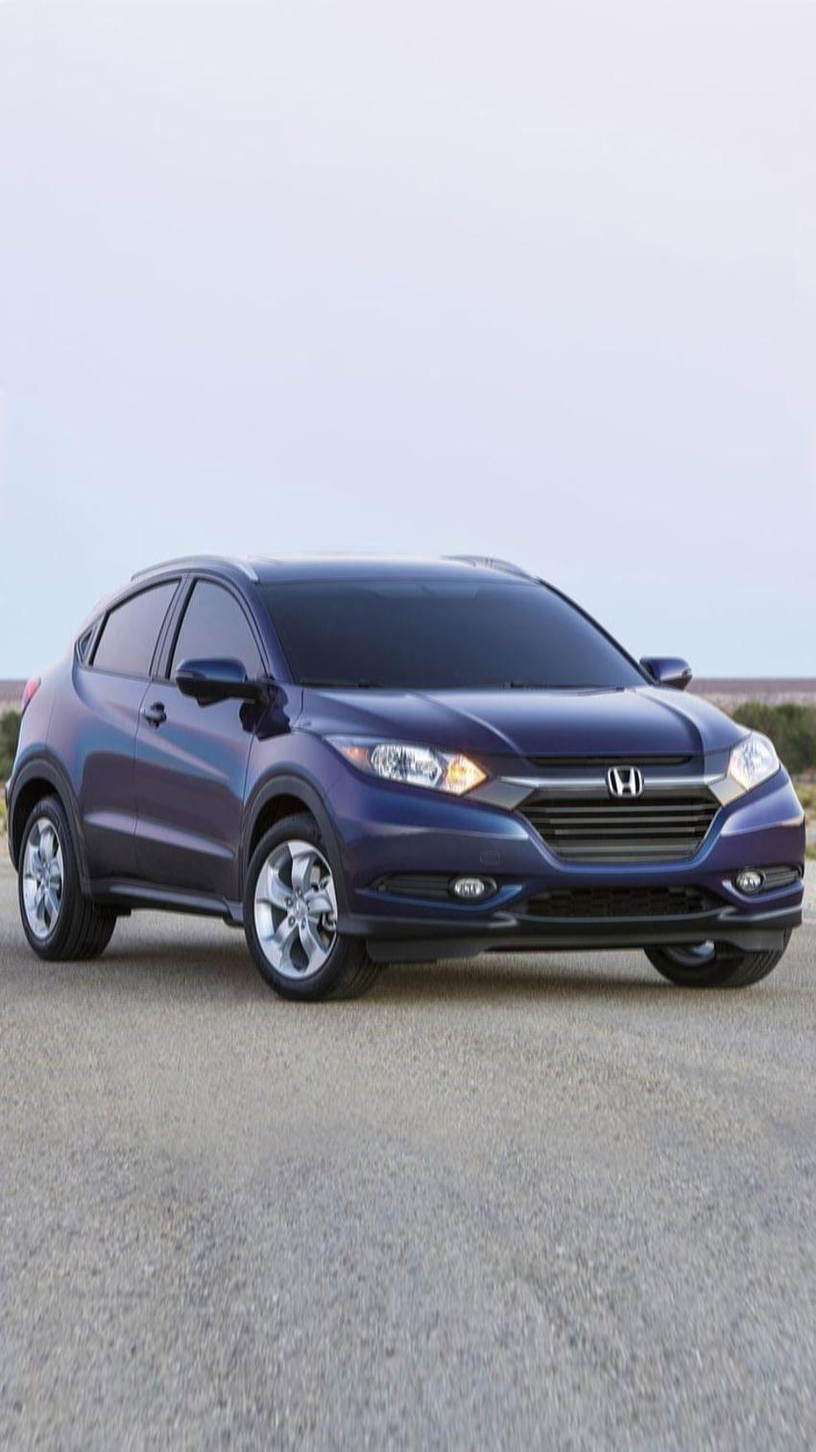Car hood: (291, 675, 762, 774)
Driver-s door - -F-R-: (107, 543, 276, 938)
Fender - -F-R-: (231, 677, 346, 921)
Fender - -R-R-: (4, 622, 75, 865)
Front bumper: (305, 788, 807, 970)
Headlight - -L-: (730, 721, 785, 806)
Headlight - -R-: (319, 728, 499, 801)
Passenger-s door - -R-R-: (34, 540, 178, 936)
Side bumper - -R-: (67, 855, 263, 955)
Side mirror - -R-: (171, 651, 275, 723)
